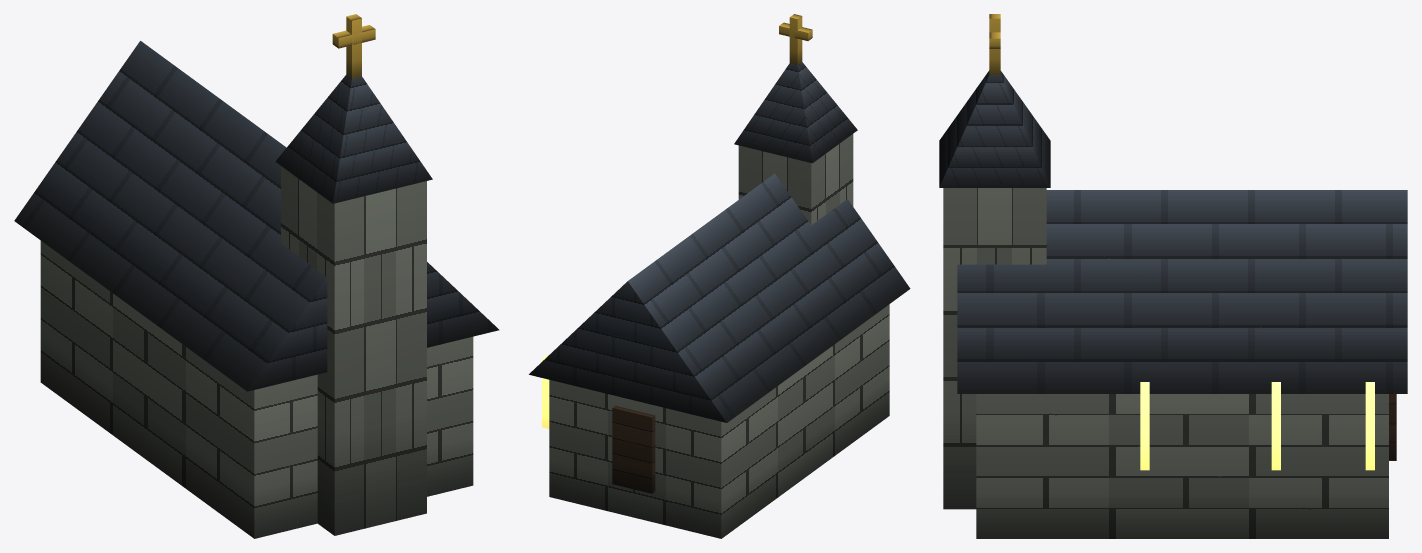
File: church.glb
3 renders of one model, left to right at view 1: azimuth 30°, elevation 25°; view 2: azimuth 150°, elevation 25°; view 3: azimuth 270°, elevation 25°, orthographic. The views are drawn at different scales.
Parts seen in each view (by area): view 1: church; view 2: church; view 3: church.
Boxes of the visible parts, <box> form: church: <box>14,14,499,538</box>; church: <box>529,14,910,538</box>; church: <box>939,14,1407,538</box>.
Bounding box in the file's own units: 1.5 × 2.77 × 2.5.
Materials: 1 (1 with a texture image).
